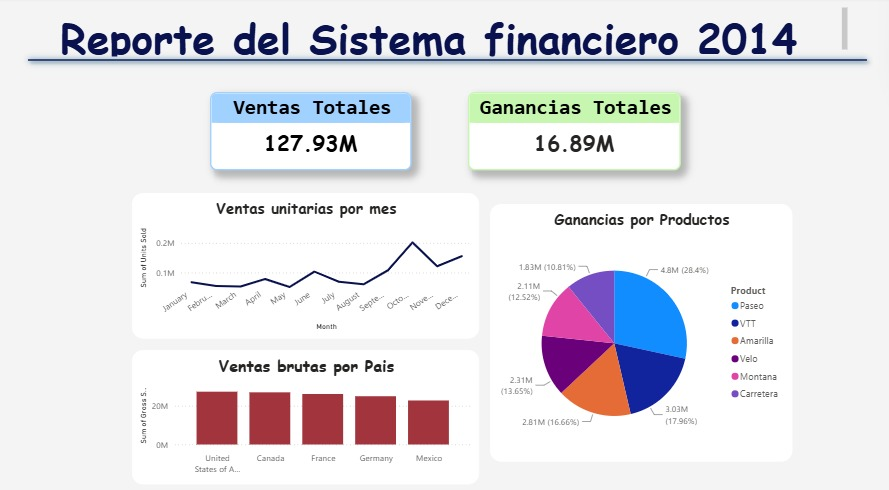

Layout of this report page (visuals, bound fields, positions):
{"tool":"powerbi","page":{"name":"Página 1","canvas":[1280,720],"ordinal":0},"visuals":[{"type":"shape","box":[144,96,1136,625],"z":0},{"type":"shape","box":[939.9,620.7,22.4,14.7],"z":0,"group":"g1"},{"type":"shape","box":[0,0,1280,95],"z":1000},{"type":"shape","box":[960.9,620.7,22.4,14.7],"z":1000,"group":"g1"},{"type":"textbox","box":[208,32,1072,160],"z":2000},{"type":"shape","box":[982,620.7,22.4,14.7],"z":2000,"group":"g1"},{"type":"shape","box":[0,96,144,624],"z":3000},{"type":"shape","box":[1003.1,620.7,22.4,14.7],"z":3000,"group":"g1"},{"type":"textbox","box":[40,128,128,64],"z":4000},{"type":"shape","box":[1024.2,620.7,22.4,14.7],"z":4000,"group":"g1"},{"type":"textbox","box":[40,192,128,64],"z":5000},{"type":"shape","box":[1045.3,620.7,22.4,14.7],"z":5000,"group":"g1"},{"type":"textbox","box":[40,256,128,64],"z":6000},{"type":"textbox","box":[898.2,628.7,232,56],"z":6000,"group":"g1"},{"type":"textbox","box":[40,320,128,64],"z":7000},{"type":"textbox","box":[40,384,128,64],"z":8000},{"type":"textbox","box":[40,448,128,64],"z":9000},{"type":"textbox","box":[40,512,128,64],"z":10000},{"type":"shape","box":[0,120,16,48],"z":11000},{"type":"slicer","fields":{"Values":["Fact_Siniestros_Region.Año"]},"box":[160,104,240,64],"z":12000},{"type":"slicer","fields":{"Values":["Fact_Siniestros_Region.DEPARTAMENTO"]},"box":[472,104,208,64],"z":13000},{"type":"slicer","fields":{"Values":["Fact_Siniestros_Tipo.Tipo_Siniestro"]},"box":[752,104,224,64],"z":14000},{"type":"slicer","fields":{"Values":["Fact_Victimas.Condicion"]},"box":[1056,104,208,64],"z":15000},{"type":"cardVisual","fields":{"Data":["Fact_Siniestros_Region.Total Fallecidos"]},"box":[432,176,256,96],"z":16000},{"type":"cardVisual","fields":{"Data":["Fact_Siniestros_Region.Total Siniestros"]},"box":[160,176,264,96],"z":17000},{"type":"cardVisual","fields":{"Data":["Fact_Siniestros_Region.Total Heridos"]},"box":[704,176,272,96],"z":18000},{"type":"cardVisual","fields":{"Data":["Fact_Siniestros_Region.Regiones Reportadas"]},"box":[1008,176,272,96],"z":19000},{"type":"lineChart","title":"       Evolución anual de siniestros","fields":{"Category":["Fact_Siniestros_Region.Año"],"Y":["Sum(Fact_Siniestros_Region.Total_Siniestros)"]},"box":[160,280,432,176],"z":20000},{"type":"azureMap","title":"Distribución geográfica de siniestros","fields":{"Category":["Fact_Siniestros_Region.Ubicacion_Mapa"],"Size":["Fact_Siniestros_Region.Total Siniestros"]},"box":[608,280,288,208],"z":21000},{"type":"clusteredBarChart","title":"Top departamentos con más siniestros","fields":{"Category":["Fact_Siniestros_Region.Departamento"],"Y":["Fact_Siniestros_Region.Total Siniestros"]},"box":[912,280,352,208],"z":22000},{"type":"donutChart","title":"Tipo de siniestro","fields":{"Category":["Fact_Siniestros_Tipo.Tipo_Siniestro"],"Y":["Sum(Fact_Siniestros_Tipo.Cantidad)"]},"box":[160,464,304,224],"z":23000},{"type":"pivotTable","title":"Comparativo mensual de siniestros 2023-2025","fields":{"Rows":["Fact_Siniestros_Mensual.Año"],"Values":["Sum(Fact_Siniestros_Mensual.Siniestros)"],"Columns":["Dim_Meses.Mes_Corto"]},"box":[786.2,492.7,480,176],"z":24000},{"type":"columnChart","title":"Fallecidos y heridos por año","fields":{"Category":["Fact_Victimas.Año"],"Series":["Fact_Victimas.Condicion"],"Y":["Sum(Fact_Victimas.Cantidad)"]},"box":[472,496,304,192],"z":25000},{"type":"group","id":"g1","title":"Grupo 1","box":[898.2,620.7,232,64],"z":26000},{"type":"shape","box":[176,16,16,64],"z":27000},{"type":"image","box":[192,280,32,32],"z":28000},{"type":"image","box":[320,112,96,48],"z":29000},{"type":"image","box":[832,280,48,48],"z":30000},{"type":"image","box":[624,112,64,48],"z":31000},{"type":"image","box":[800,8,480,88],"z":32000},{"type":"image","box":[912,104,53,61],"z":33000},{"type":"image","box":[1208,112,48,56],"z":34000},{"type":"image","box":[728,480,48,64],"z":35000},{"type":"image","box":[912,272,32,48],"z":36000},{"type":"image","box":[8,152,32,112],"z":37000},{"type":"image","box":[0,416,40,96],"z":38000},{"type":"image","box":[0,496,40,64],"z":39000},{"type":"image","box":[0,248,45,45],"z":40000},{"type":"image","box":[8,128,32,32],"z":41000},{"type":"image","box":[0,352,42,85],"z":42000},{"type":"image","box":[8,304,40,56],"z":43000},{"type":"image","box":[272,456,72,40],"z":44000},{"type":"textbox","box":[208,8,1071,144],"z":45000},{"type":"image","box":[0,16,192,64],"z":46000}]}

Visuals, with their boxes in screenshot pixels (x1, y1, x2, y2), scaled from the page's 1280x720 canvas onto the 889x490 screenshot:
shape: detection(100, 65, 888, 489)
shape: detection(653, 422, 668, 432)
shape: detection(0, 0, 888, 65)
shape: detection(667, 422, 683, 432)
textbox: detection(144, 22, 888, 131)
shape: detection(682, 422, 698, 432)
shape: detection(0, 65, 100, 489)
shape: detection(697, 422, 712, 432)
textbox: detection(28, 87, 117, 131)
shape: detection(711, 422, 727, 432)
textbox: detection(28, 131, 117, 174)
shape: detection(726, 422, 742, 432)
textbox: detection(28, 174, 117, 218)
textbox: detection(624, 428, 785, 466)
textbox: detection(28, 218, 117, 261)
textbox: detection(28, 261, 117, 305)
textbox: detection(28, 305, 117, 348)
textbox: detection(28, 348, 117, 392)
shape: detection(0, 82, 11, 114)
slicer - Fact_Siniestros_Region.Año: detection(111, 71, 278, 114)
slicer - Fact_Siniestros_Region.DEPARTAMENTO: detection(328, 71, 472, 114)
slicer - Fact_Siniestros_Tipo.Tipo_Siniestro: detection(522, 71, 678, 114)
slicer - Fact_Victimas.Condicion: detection(733, 71, 878, 114)
cardVisual - Fact_Siniestros_Region.Total Fallecidos: detection(300, 120, 478, 185)
cardVisual - Fact_Siniestros_Region.Total Siniestros: detection(111, 120, 294, 185)
cardVisual - Fact_Siniestros_Region.Total Heridos: detection(489, 120, 678, 185)
cardVisual - Fact_Siniestros_Region.Regiones Reportadas: detection(700, 120, 888, 185)
"       Evolución anual de siniestros" lineChart: detection(111, 191, 411, 310)
"Distribución geográfica de siniestros" azureMap: detection(422, 191, 622, 332)
"Top departamentos con más siniestros" clusteredBarChart: detection(633, 191, 878, 332)
"Tipo de siniestro" donutChart: detection(111, 316, 322, 468)
"Comparativo mensual de siniestros 2023-2025" pivotTable: detection(546, 335, 879, 455)
"Fallecidos y heridos por año" columnChart: detection(328, 338, 539, 468)
"Grupo 1" group: detection(624, 422, 785, 466)
shape: detection(122, 11, 133, 54)
image: detection(133, 191, 156, 212)
image: detection(222, 76, 289, 109)
image: detection(578, 191, 611, 223)
image: detection(433, 76, 478, 109)
image: detection(556, 5, 888, 65)
image: detection(633, 71, 670, 112)
image: detection(839, 76, 872, 114)
image: detection(506, 327, 539, 370)
image: detection(633, 185, 656, 218)
image: detection(6, 103, 28, 180)
image: detection(0, 283, 28, 348)
image: detection(0, 338, 28, 381)
image: detection(0, 169, 31, 199)
image: detection(6, 87, 28, 109)
image: detection(0, 240, 29, 297)
image: detection(6, 207, 33, 245)
image: detection(189, 310, 239, 338)
textbox: detection(144, 5, 888, 103)
image: detection(0, 11, 133, 54)
